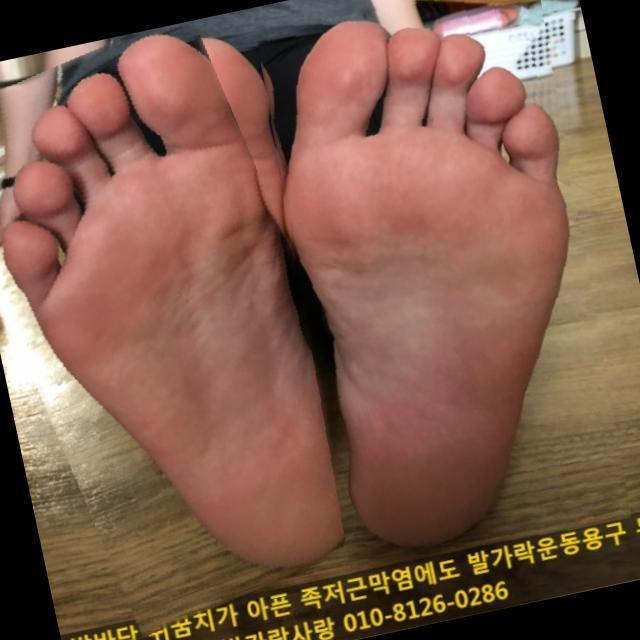No_Shoes: (5, 45, 330, 588), (286, 35, 574, 541)
